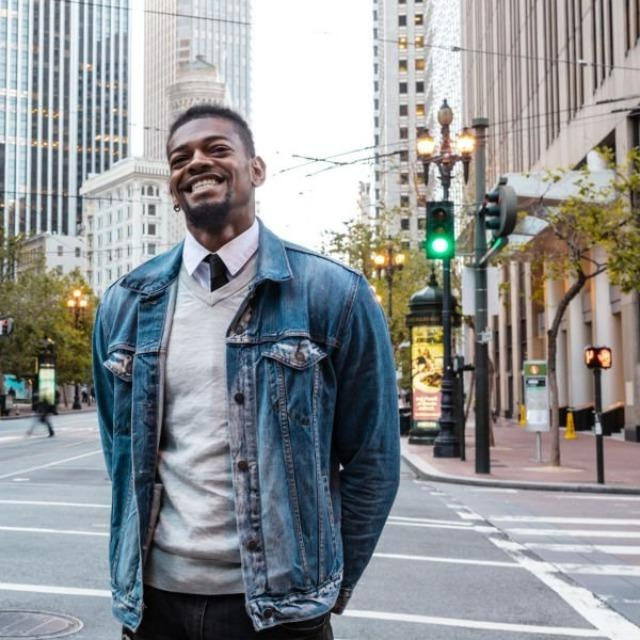Sin_Casco_Mascarrilla: (166, 101, 265, 227)
Sin_Chaleco: (92, 236, 367, 580)
